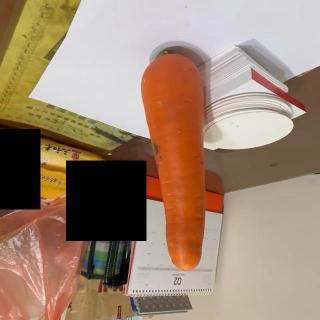carrot: (140, 50, 208, 270)
